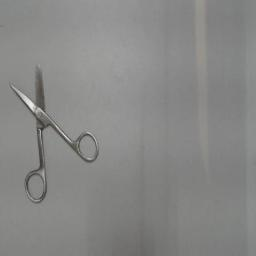Dressing Scissors: (6, 59, 102, 207)
